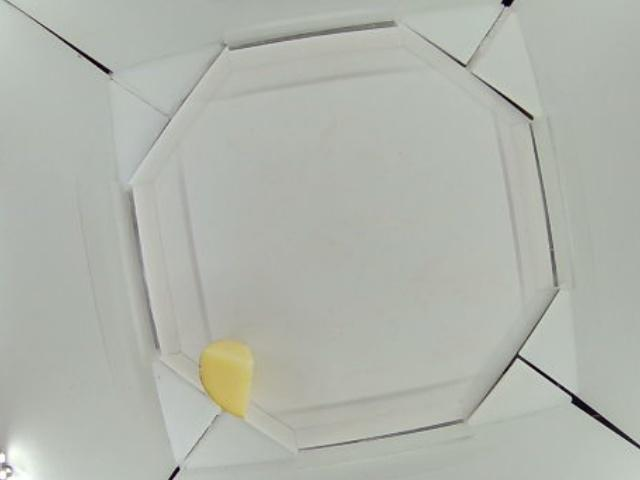Potato: (197, 339, 254, 418)
